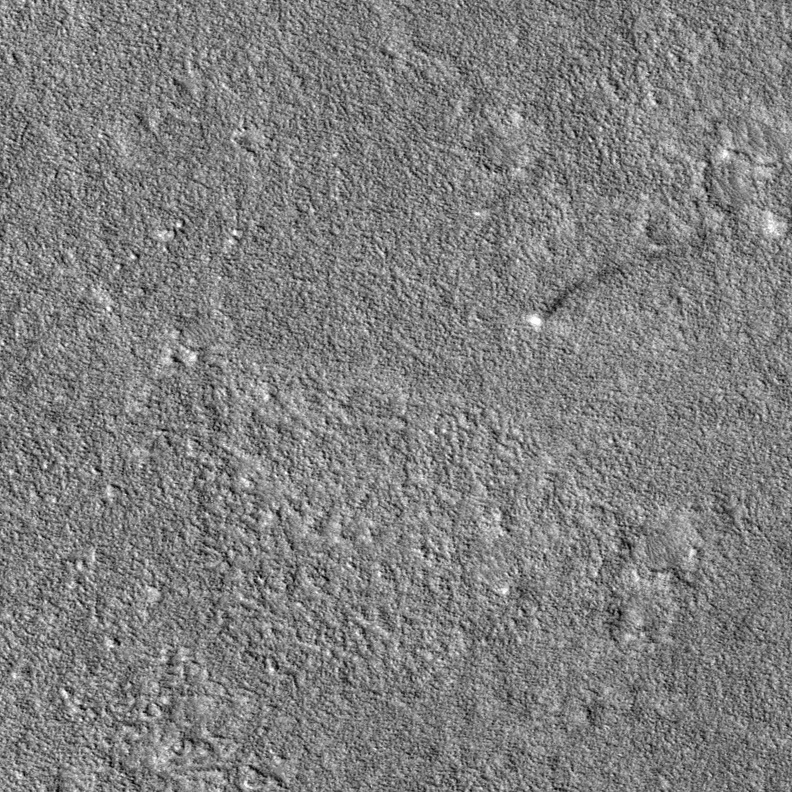dust_devil: (527, 264, 624, 333)
